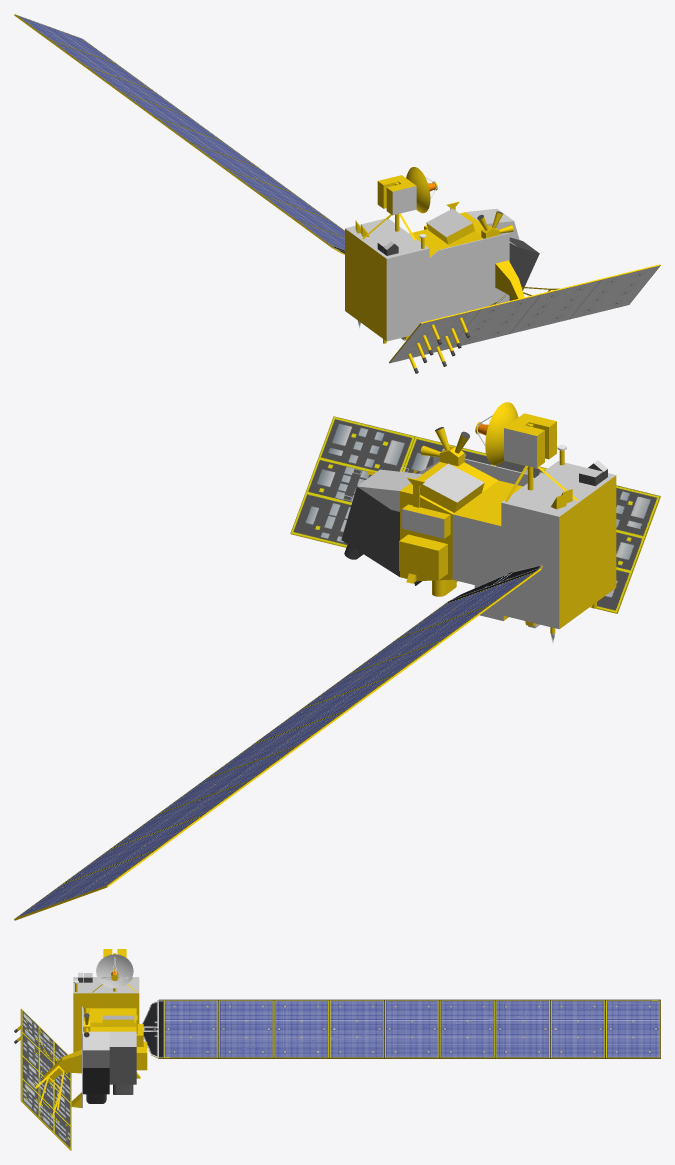
3 views of the same model, one above another, from view 1: azimuth 30°, elevation 25°; view 2: azimuth 150°, elevation 25°; view 3: azimuth 270°, elevation 25° (orthographic). The views are drawn at different scales.
Visible parts, largest first — view 1: Group29, Group43, Group38, Group37, Group31, Group17, Group20, Group3, Group39, Group33, Group18, Group42; view 2: Group43, Group29, Group42, Group3, Group18, Group31, Group17, Group8, Group33, Group9, Group37; view 3: Group43, Group42, Group29, Group20, Group18, Group33, Group3, Group39, Group17, Group40, Group8.
Part boxes in pixels (x1,y1,x2,y2): Group29: (345,218,429,341); Group43: (14,14,344,254); Group38: (390,265,660,363); Group37: (429,233,509,319); Group31: (377,175,416,215); Group17: (426,208,474,244); Group20: (499,234,539,300); Group3: (409,212,483,257); Group39: (495,260,524,300); Group33: (406,167,437,213); Group18: (466,208,519,239); Group42: (389,264,660,363); Group43: (14,565,542,920); Group29: (501,461,616,629); Group42: (290,416,660,613); Group3: (400,462,522,586); Group18: (341,469,422,576); Group31: (504,413,556,468); Group17: (420,463,484,512); Group8: (399,534,447,580); Group33: (475,402,518,465); Group9: (402,504,450,538); Group37: (433,456,534,581); Group43: (142,999,660,1058); Group42: (20,1008,71,1150); Group29: (73,977,139,1052); Group20: (83,1031,109,1094); Group18: (109,1031,136,1084); Group33: (96,954,133,988); Group3: (83,1008,136,1031); Group39: (43,1049,81,1082); Group17: (102,1015,134,1026); Group40: (34,1065,64,1117); Group8: (136,1042,147,1070).
Size of the model in its own units: 9.37 by 27.72 by 6.18.
12 materials, 4 textured.
